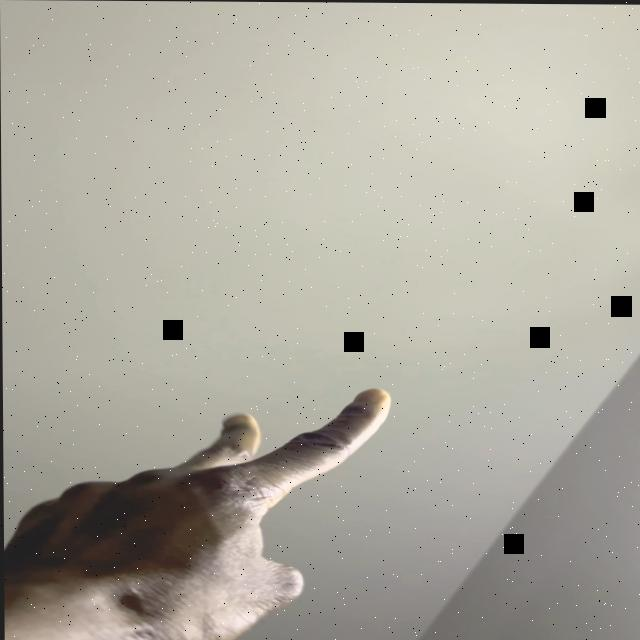Scissors: (2, 382, 394, 640)
